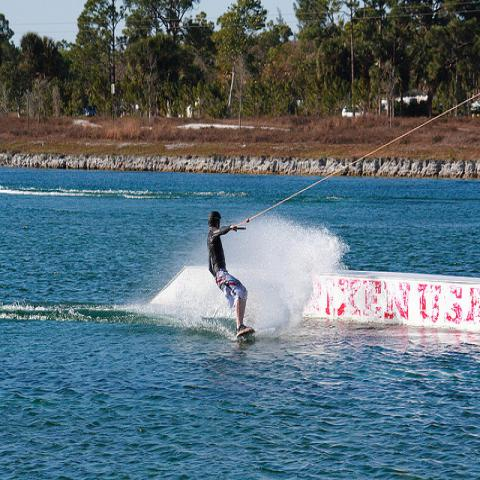car: (342, 104, 368, 117), (122, 108, 139, 117)
